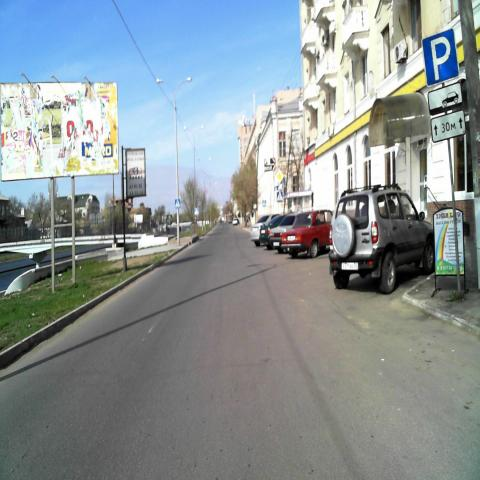8_6_4: (428, 82, 462, 114)
